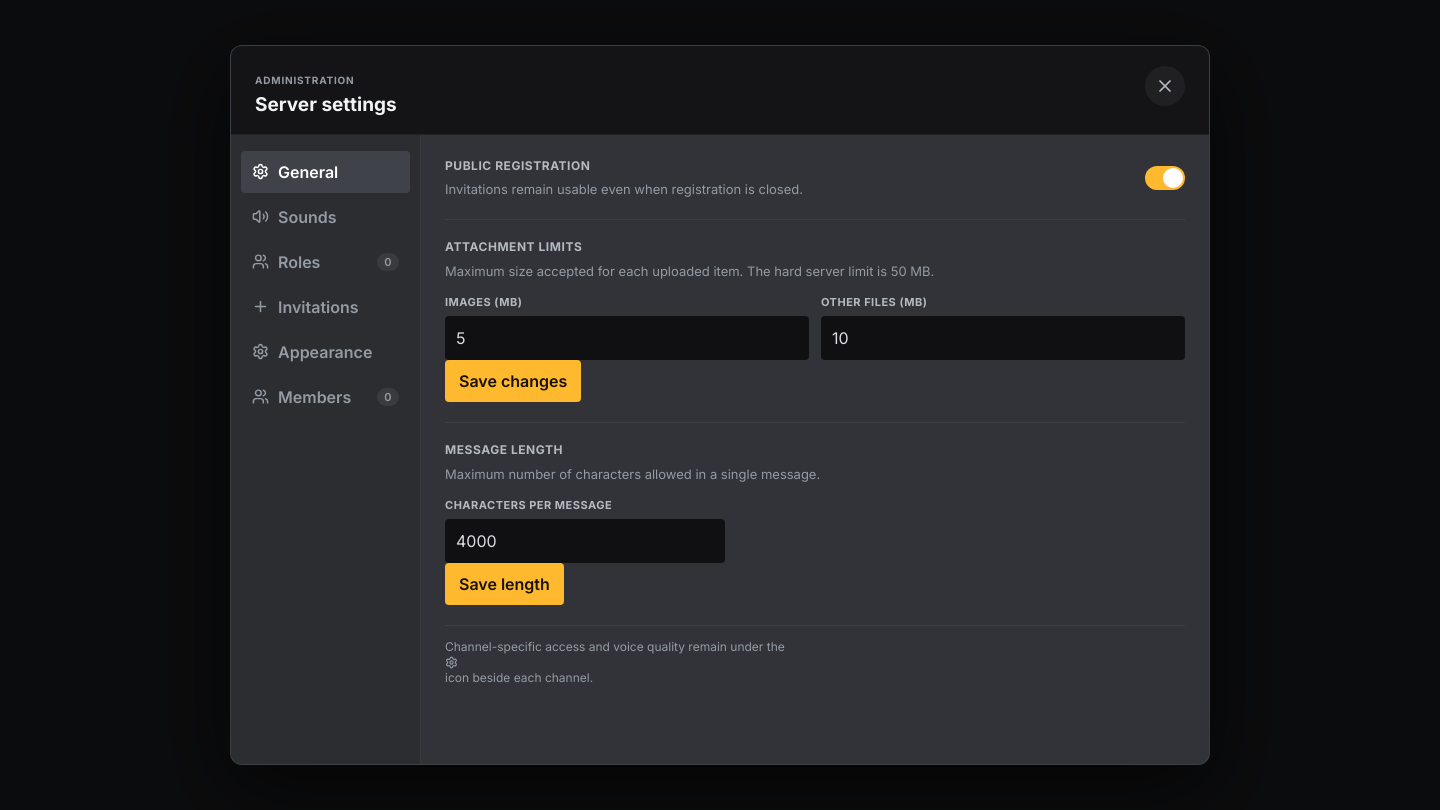
Scenario: AdminPanel moderation › shows an error toast-equivalent message when self-ban is rejected
This screenshot has width=1440, height=810.
Click the button "Members 0" at (326, 397), box [241,376,410,418]
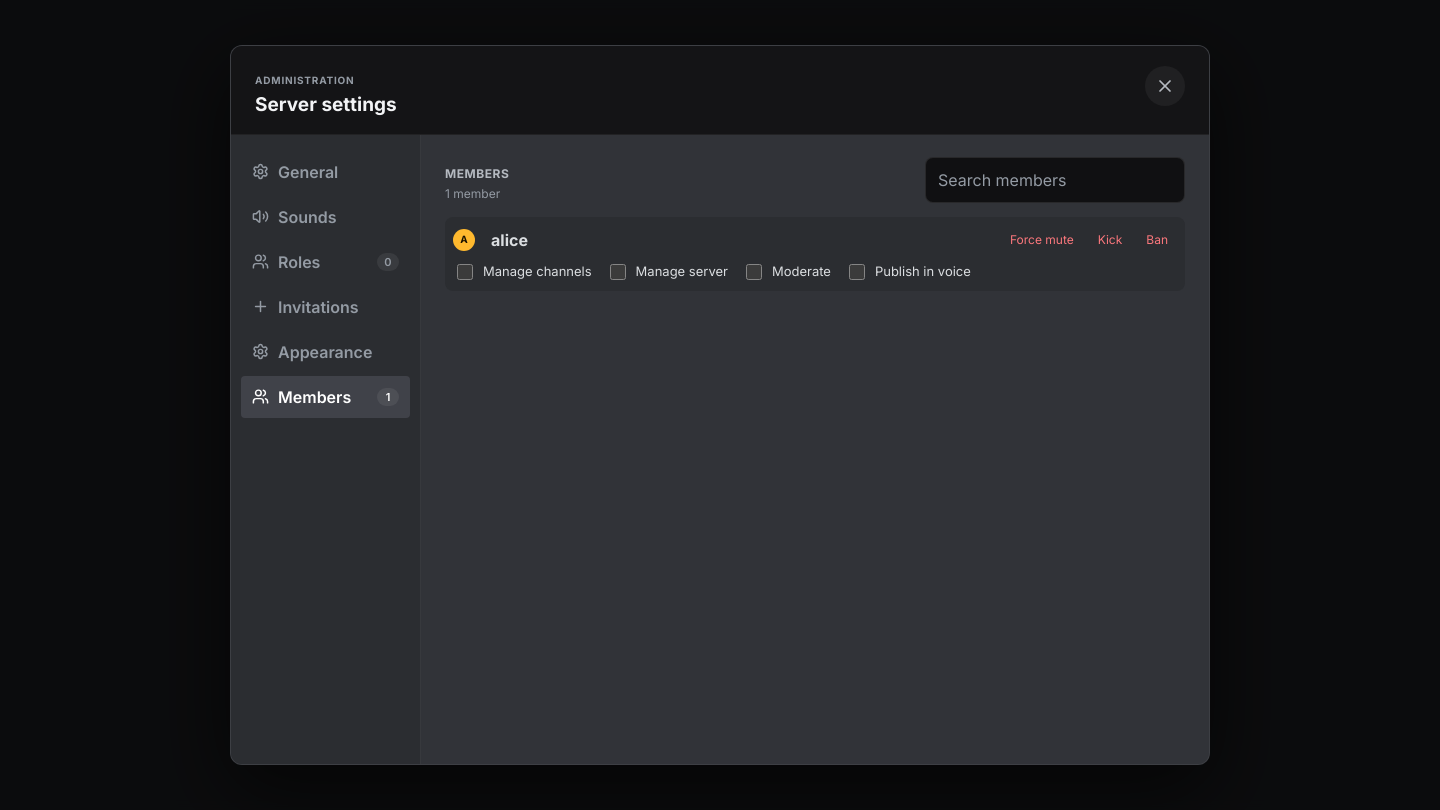
Click the button "Ban" at (1157, 240), box [1137,225,1177,255]
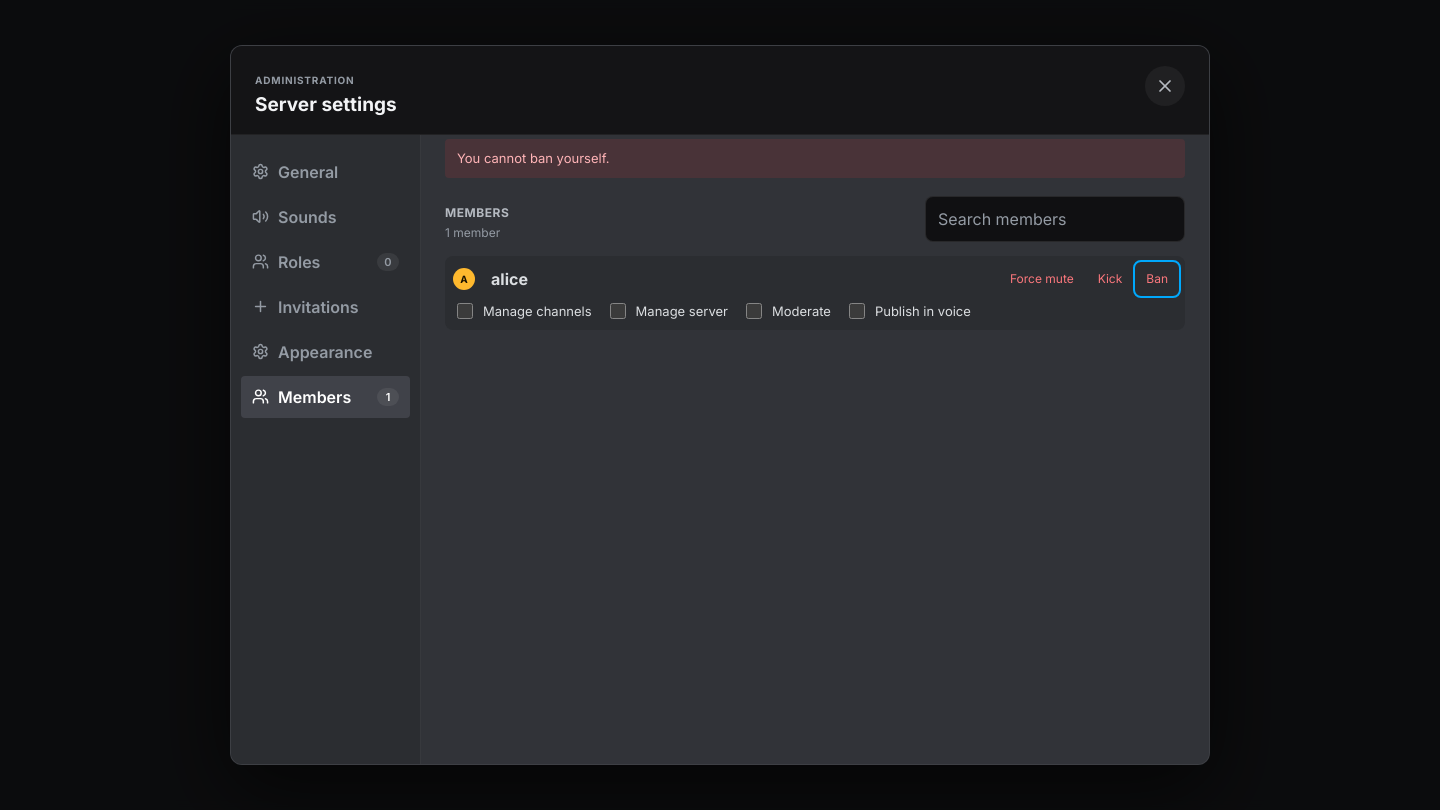
Now the text "You cannot ban yourself." is shown, box [445,139,1185,178]
